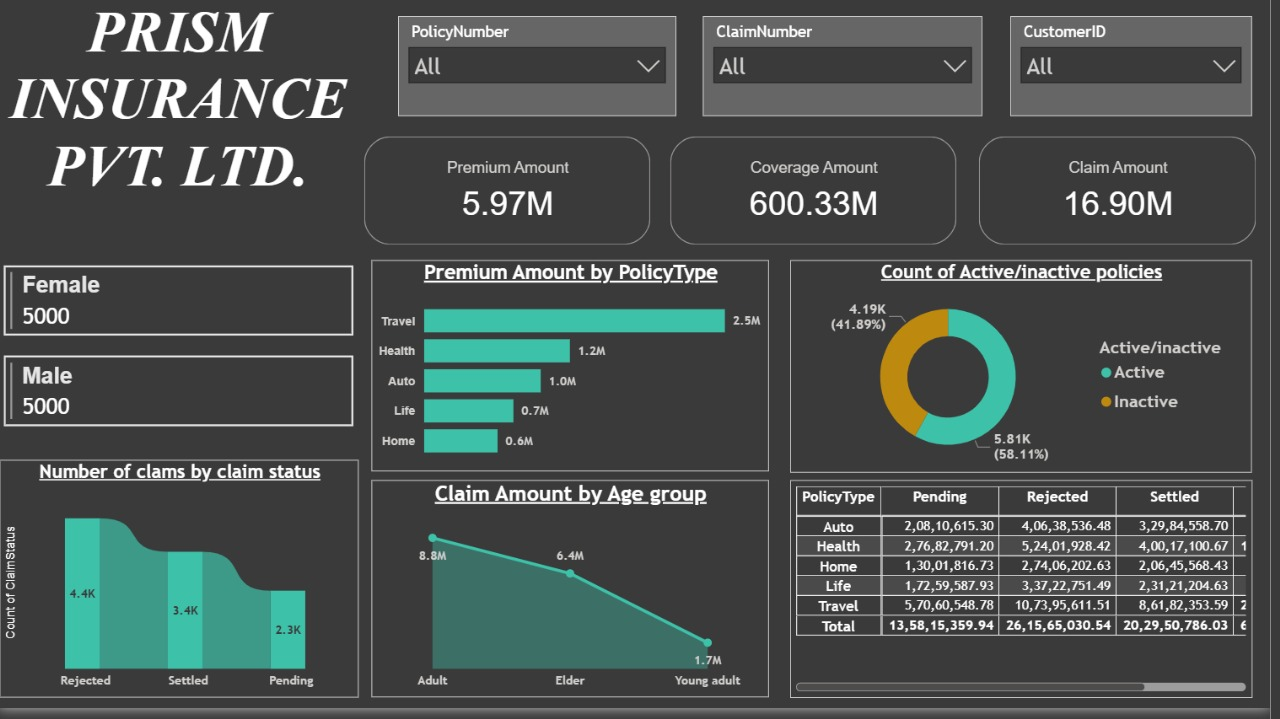

This screenshot's page, from the dashboard's own definition file:
{"tool":"powerbi","page":{"name":"Page 1","canvas":[1280,720],"ordinal":0},"visuals":[{"type":"slicer","fields":{"Values":["2  InsuranceData.PolicyNumber"]},"box":[402,22.9,279.7,100.9],"z":0},{"type":"slicer","fields":{"Values":["2  InsuranceData.ClaimNumber"]},"box":[709.3,22.9,281.3,100.9],"z":1000},{"type":"slicer","fields":{"Values":["2  InsuranceData.CustomerID"]},"box":[1018.1,22.9,243.1,100.9],"z":2000},{"type":"textbox","box":[0,0,362.3,212.5],"z":3000},{"type":"cardVisual","fields":{"Data":["Sum(2  InsuranceData.PremiumAmount)"]},"box":[362.3,139.1,298.1,119.2],"z":4000},{"type":"cardVisual","fields":{"Data":["Sum(2  InsuranceData.CoverageAmount)"]},"box":[671.1,139.1,298.1,119.2],"z":5000},{"type":"cardVisual","fields":{"Data":["Sum(2  InsuranceData.ClaimAmount)"]},"box":[981.6,138.8,289,119.7],"z":6000},{"type":"multiRowCard","fields":{"Values":["2  InsuranceData.Gender","CountNonNull(2  InsuranceData.Gender)"]},"box":[0,269,362.3,212.5],"z":7000},{"type":"ribbonChart","title":"Number of clams by claim status","fields":{"Category":["2  InsuranceData.ClaimStatus"],"Y":["CountNonNull(2  InsuranceData.ClaimStatus)"]},"box":[1.3,469.8,361.6,239.4],"z":8000},{"type":"barChart","title":"Premium Amount by PolicyType","fields":{"Category":["2  InsuranceData.PolicyType"],"Y":["Sum(2  InsuranceData.PremiumAmount)"]},"box":[375.6,268.6,399.8,212.6],"z":9000},{"type":"lineChart","title":"Claim  Amount by Age group","fields":{"Category":["2  InsuranceData.Age group"],"Y":["Sum(2  InsuranceData.ClaimAmount)"]},"box":[375.6,490.2,399.8,219],"z":10000},{"type":"donutChart","title":"Count of Active/inactive policies","fields":{"Category":["2  InsuranceData.Active/inactive"],"Y":["CountNonNull(2  InsuranceData.Active/inactive)"]},"box":[797,268.6,464.7,213.9],"z":11000},{"type":"pivotTable","fields":{"Values":["Sum(2  InsuranceData.CoverageAmount)"],"Columns":["2  InsuranceData.ClaimStatus"],"Rows":["2  InsuranceData.PolicyType"]},"box":[797,490,465,219],"z":12000}]}

Visuals, with their boxes in screenshot pixels (x1, y1, x2, y2), scaled from the page's 1280x720 canvas onto the 1280x719 screenshot:
slicer - 2  InsuranceData.PolicyNumber: BBox(402, 23, 682, 124)
slicer - 2  InsuranceData.ClaimNumber: BBox(709, 23, 991, 124)
slicer - 2  InsuranceData.CustomerID: BBox(1018, 23, 1261, 124)
textbox: BBox(0, 0, 362, 212)
cardVisual - Sum(2  InsuranceData.PremiumAmount): BBox(362, 139, 660, 258)
cardVisual - Sum(2  InsuranceData.CoverageAmount): BBox(671, 139, 969, 258)
cardVisual - Sum(2  InsuranceData.ClaimAmount): BBox(982, 139, 1271, 258)
multiRowCard - 2  InsuranceData.Gender x CountNonNull(2  InsuranceData.Gender): BBox(0, 269, 362, 481)
"Number of clams by claim status" ribbonChart: BBox(1, 469, 363, 708)
"Premium Amount by PolicyType" barChart: BBox(376, 268, 775, 481)
"Claim  Amount by Age group" lineChart: BBox(376, 490, 775, 708)
"Count of Active/inactive policies" donutChart: BBox(797, 268, 1262, 482)
pivotTable - Sum(2  InsuranceData.CoverageAmount) x 2  InsuranceData.ClaimStatus: BBox(797, 489, 1262, 708)
